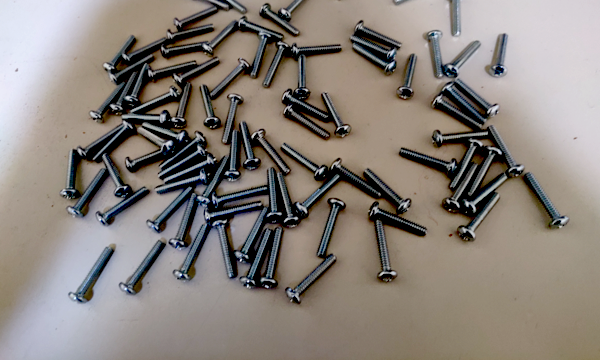longscrew: (97, 176, 155, 224), (119, 241, 169, 295), (525, 173, 571, 229), (70, 248, 116, 304), (286, 259, 343, 303), (364, 167, 410, 214), (158, 125, 206, 170), (462, 173, 513, 215), (177, 225, 215, 281), (235, 206, 271, 265), (151, 186, 197, 232), (243, 228, 277, 290), (70, 162, 107, 217), (296, 175, 345, 216), (458, 194, 501, 240), (487, 124, 525, 176), (332, 156, 380, 197), (76, 118, 124, 159), (369, 202, 428, 235), (160, 151, 217, 185), (281, 136, 325, 180), (170, 194, 205, 247), (158, 144, 211, 179), (91, 121, 134, 164), (208, 60, 255, 99), (259, 229, 289, 290), (317, 200, 348, 259), (130, 81, 181, 116), (447, 140, 484, 188), (466, 146, 503, 194), (442, 161, 479, 209), (127, 136, 176, 172), (457, 78, 501, 118), (443, 84, 487, 124), (198, 155, 233, 205), (436, 90, 479, 130), (152, 165, 211, 194), (99, 143, 128, 201), (253, 130, 293, 172), (87, 78, 125, 122), (284, 105, 330, 141), (211, 180, 271, 207), (375, 215, 398, 283), (203, 199, 263, 225), (322, 92, 353, 140), (108, 53, 156, 84), (263, 39, 292, 89), (215, 220, 238, 283), (352, 43, 396, 75), (400, 148, 456, 173), (172, 57, 222, 85), (159, 33, 209, 61), (283, 88, 328, 119), (109, 69, 139, 114), (102, 35, 139, 71), (167, 16, 216, 43), (220, 96, 246, 145), (206, 15, 240, 52), (145, 58, 197, 82), (275, 172, 297, 228), (447, 43, 484, 76), (119, 37, 172, 60), (137, 122, 175, 154), (139, 122, 189, 146), (261, 3, 297, 36), (60, 148, 82, 202), (175, 4, 220, 30), (358, 20, 401, 47), (351, 34, 396, 59), (225, 128, 245, 184), (239, 17, 287, 39), (127, 65, 153, 105), (175, 81, 197, 128), (250, 34, 273, 78), (240, 119, 260, 169), (399, 52, 420, 98), (433, 127, 488, 144), (200, 79, 218, 129), (117, 108, 172, 124), (265, 168, 281, 222), (492, 33, 511, 78), (295, 52, 312, 102), (293, 41, 342, 57), (430, 31, 444, 78), (282, 0, 317, 17), (210, 0, 248, 14), (450, 0, 464, 37), (190, 0, 228, 12), (391, 0, 440, 3)
